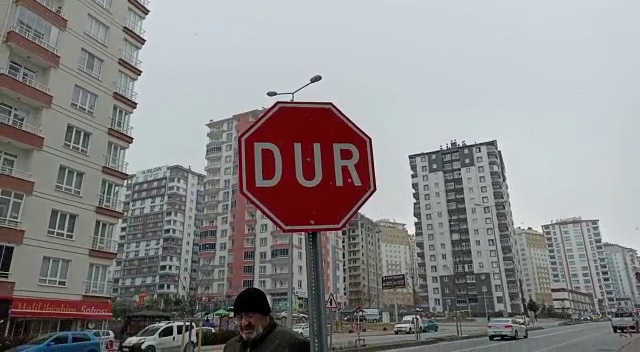stop: (235, 99, 380, 235)
